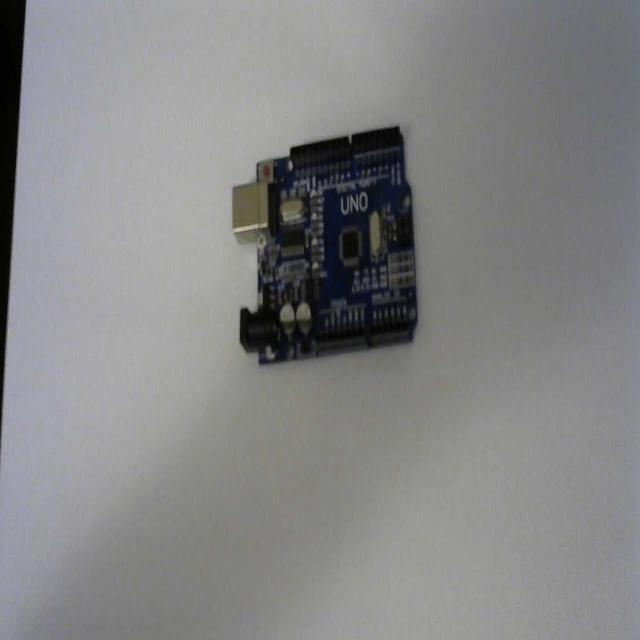arduino: (232, 123, 419, 370)
